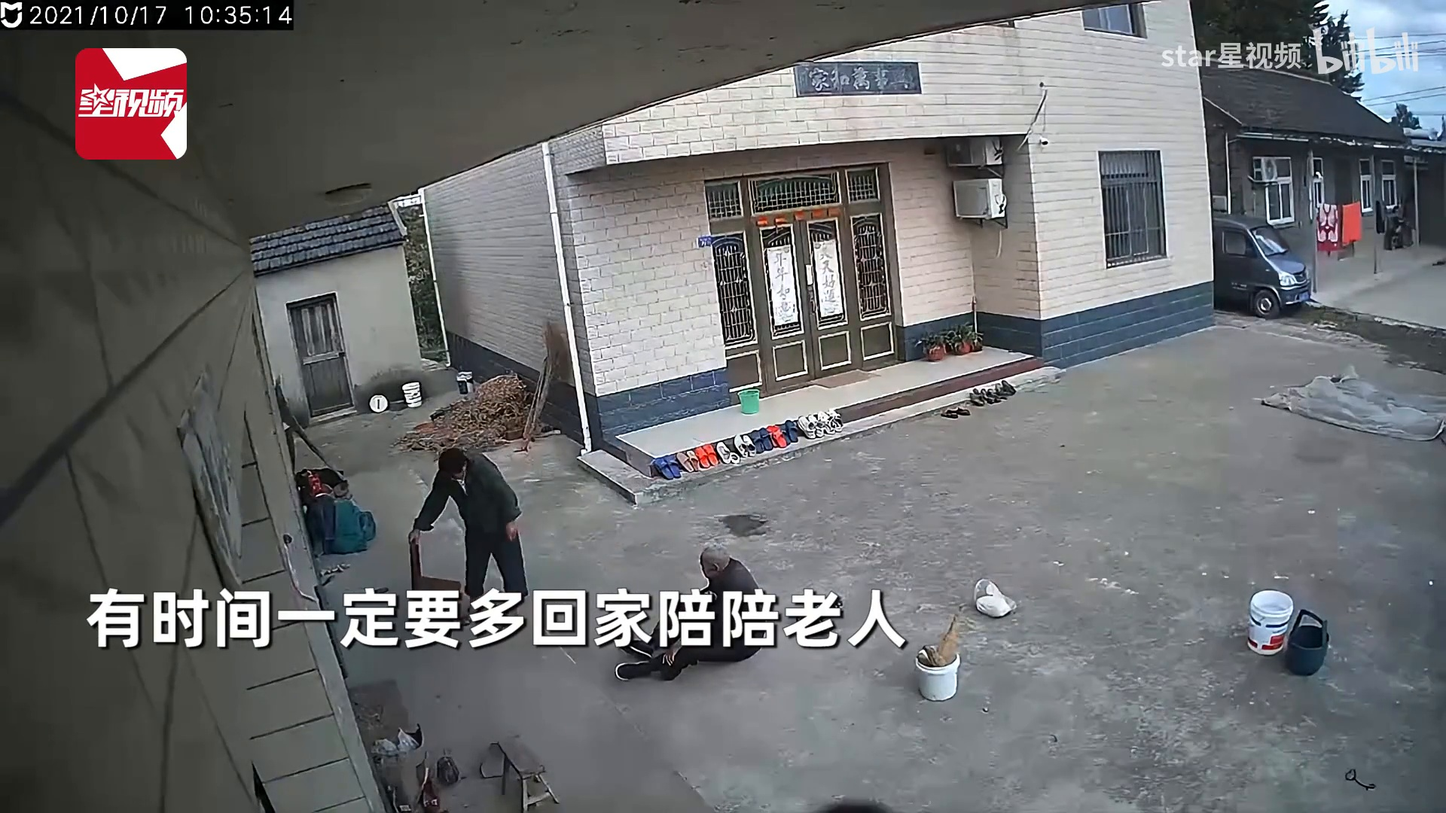half_up: (606, 544, 769, 678)
stand: (410, 446, 532, 626)
